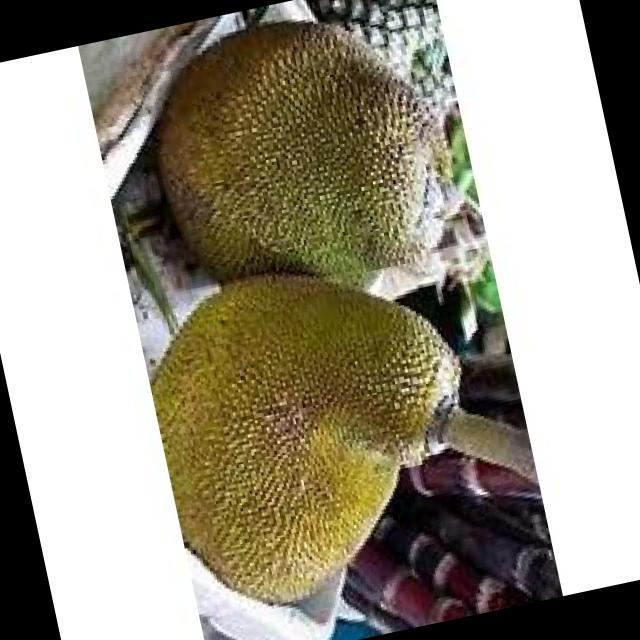Fruit: (121, 211, 515, 640), (101, 0, 487, 367)
